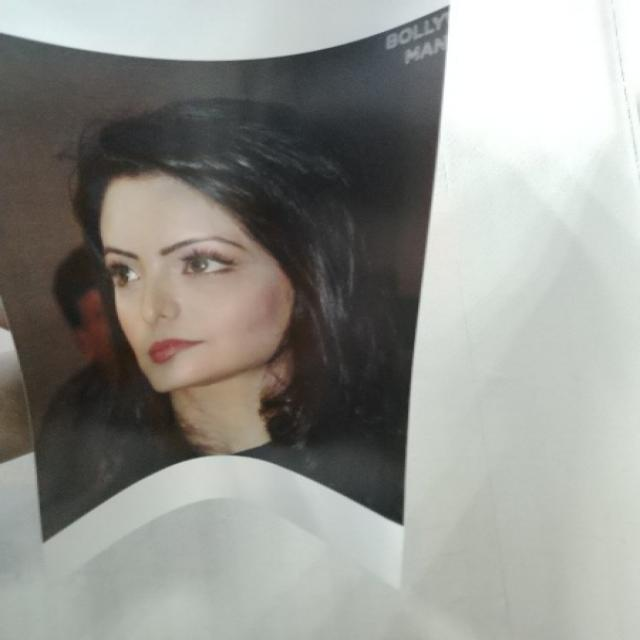photo: (3, 1, 458, 589)
